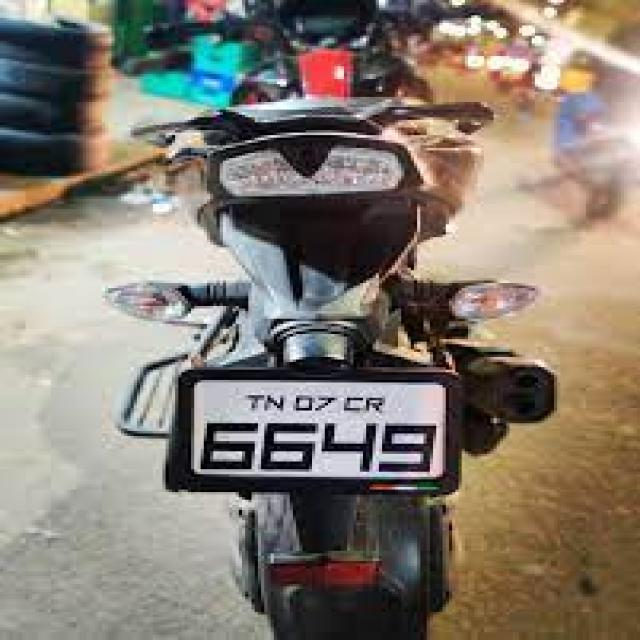license_plate: (172, 365, 455, 487)
